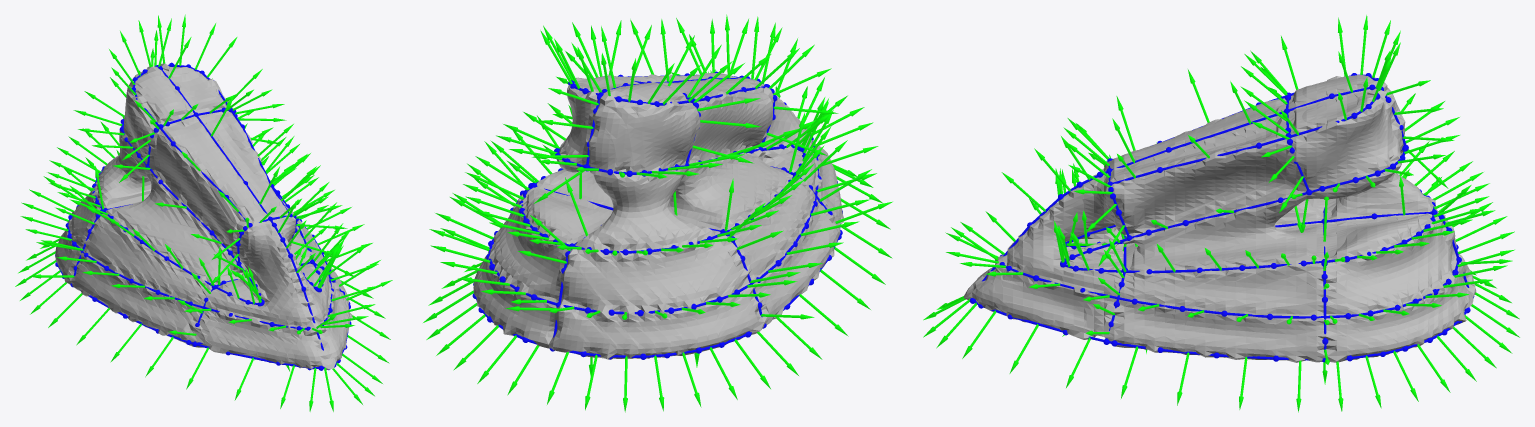
File: t2f_iron.gltf
3 renders of one model, left to right at view 1: azimuth 30°, elevation 25°; view 2: azimuth 150°, elevation 25°; view 3: azimuth 270°, elevation 25°, orthographic. The views are drawn at different scales.
Size of the model in its own units: 0.6616 by 0.5608 by 0.9547.
